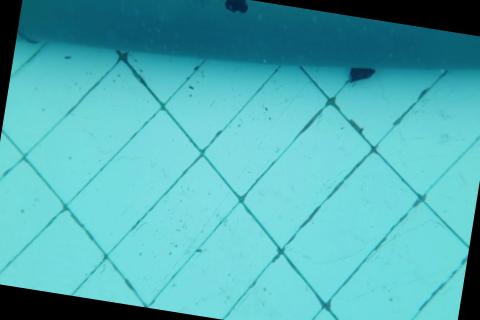kebocoran: (223, 0, 250, 14)
